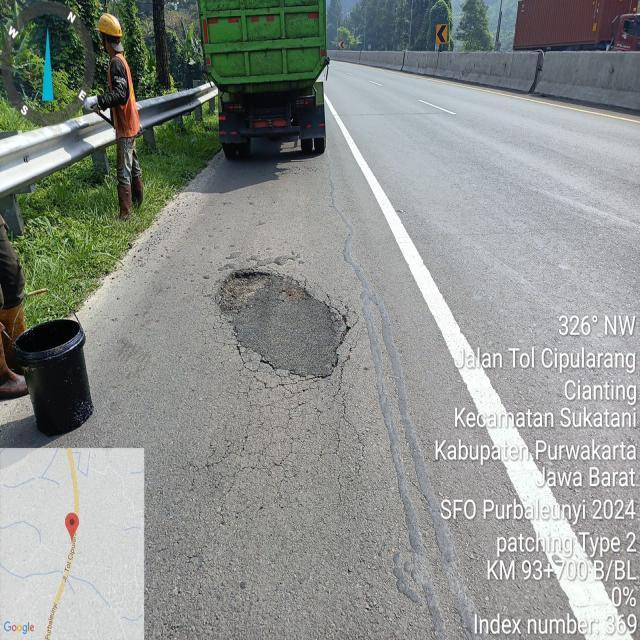Buraco: (210, 266, 275, 317)
